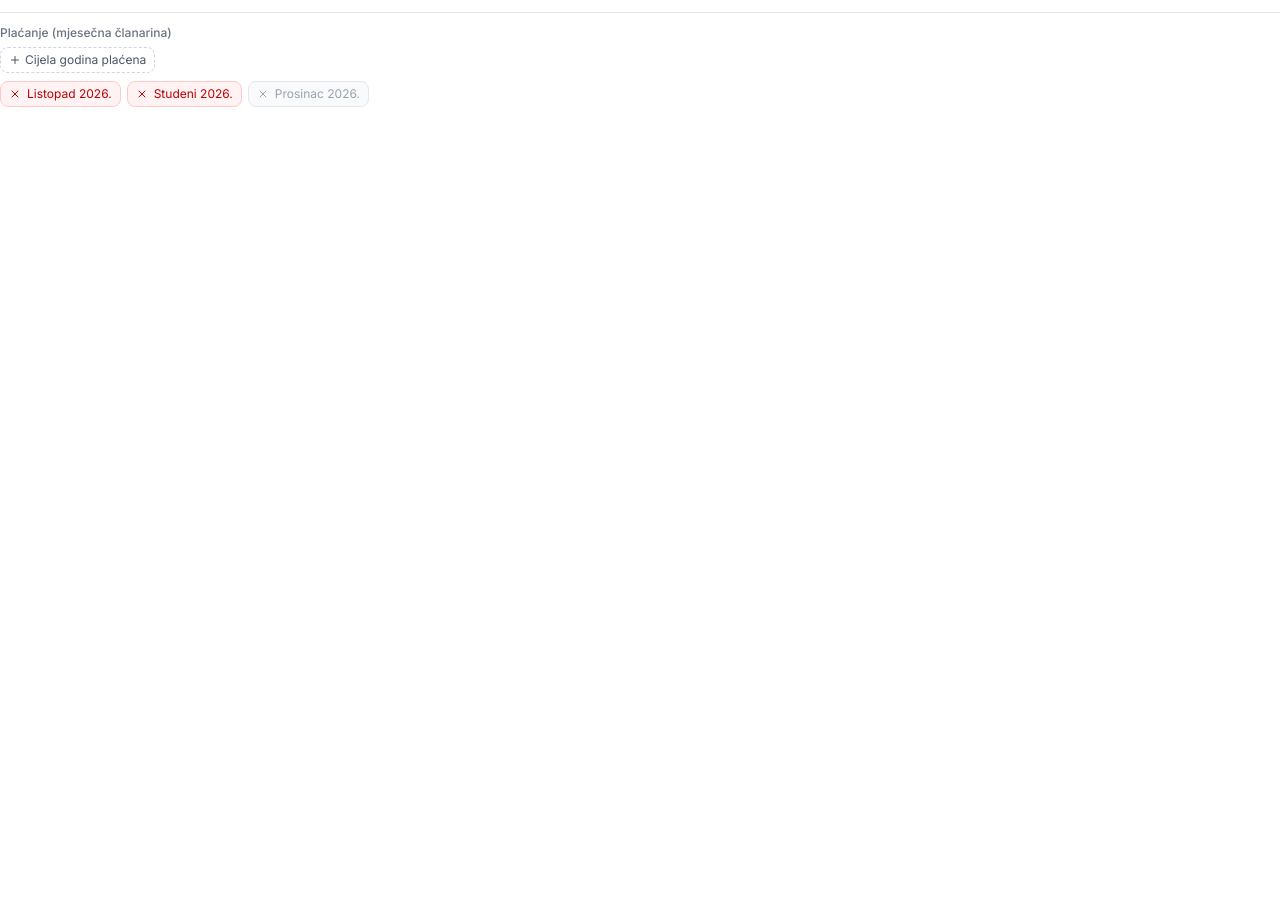
EnrollmentPaymentPanel — nothing is written on the first click › names the enrollment the mark belongs to
Click the button "Listopad 2026." at (60, 94), box left=0, top=81, right=121, bottom=107
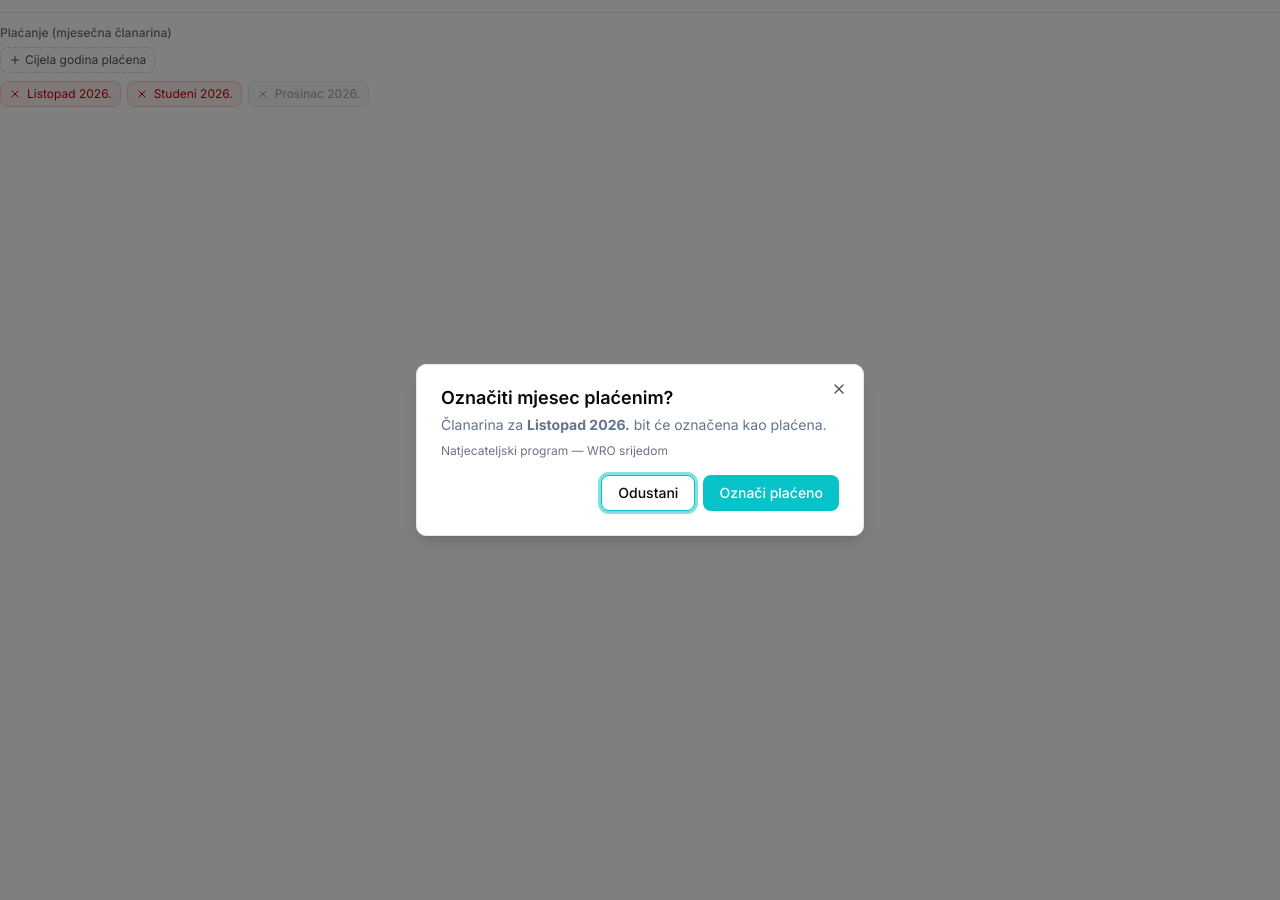
Result: the text "Natjecateljski program — WRO srijedom" is shown at left=441, top=443, right=668, bottom=458
